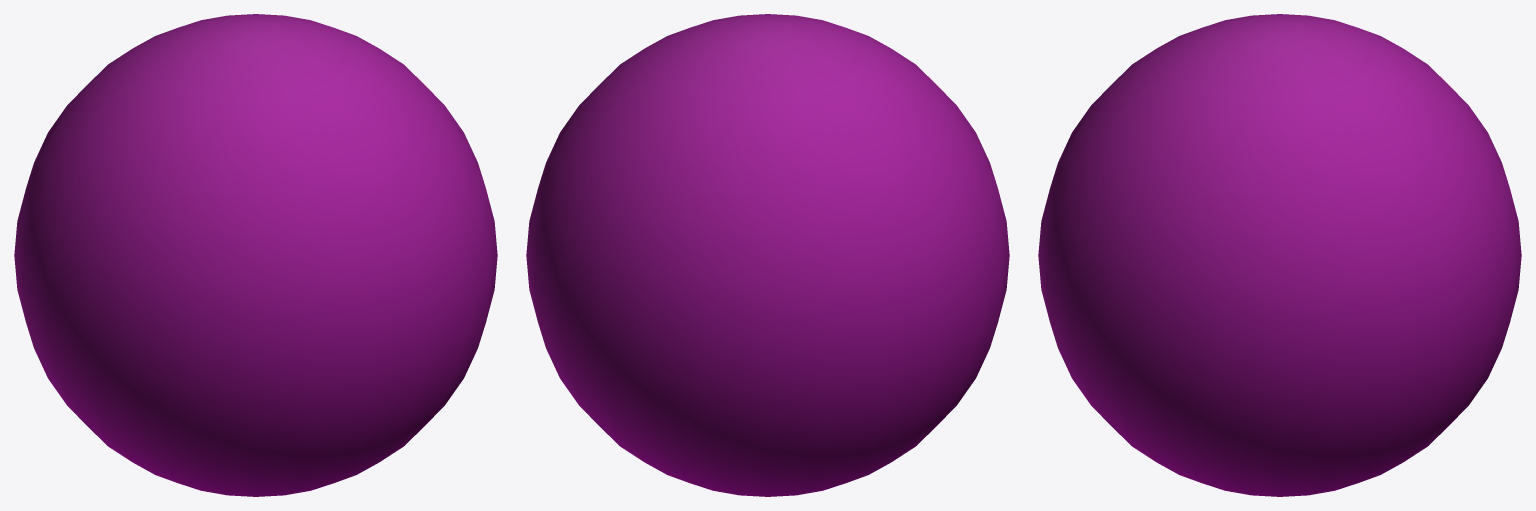
File: ground_004.glb
The picture shows the model from 3 angles, left to right: view 1: azimuth 30°, elevation 25°; view 2: azimuth 150°, elevation 25°; view 3: azimuth 270°, elevation 25°; orthographic projection.
Visible parts, largest first — view 1: ground_004; view 2: ground_004; view 3: ground_004.
Boxes of the visible parts, <box> form: ground_004: <box>14,14,497,496</box>; ground_004: <box>526,14,1009,496</box>; ground_004: <box>1038,14,1521,496</box>.
Bounding box in the file's own units: 20.09 × 20.09 × 20.09.
Materials: 1 (1 with a texture image).
